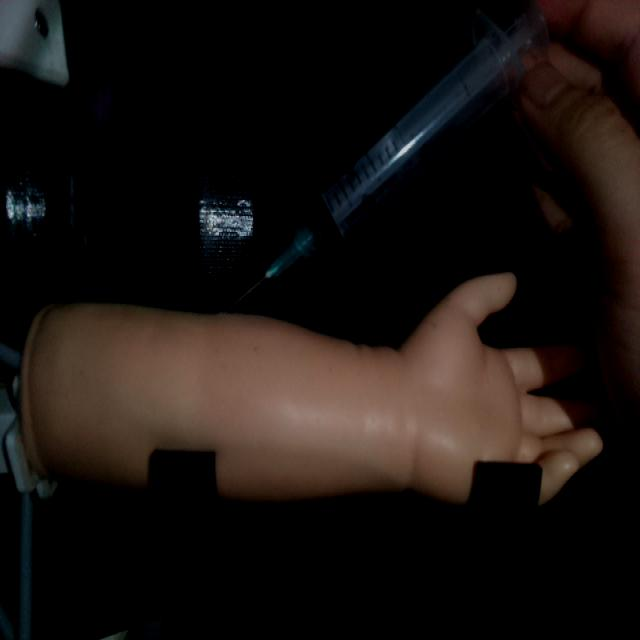Above 30 degrees: (218, 4, 551, 313)
